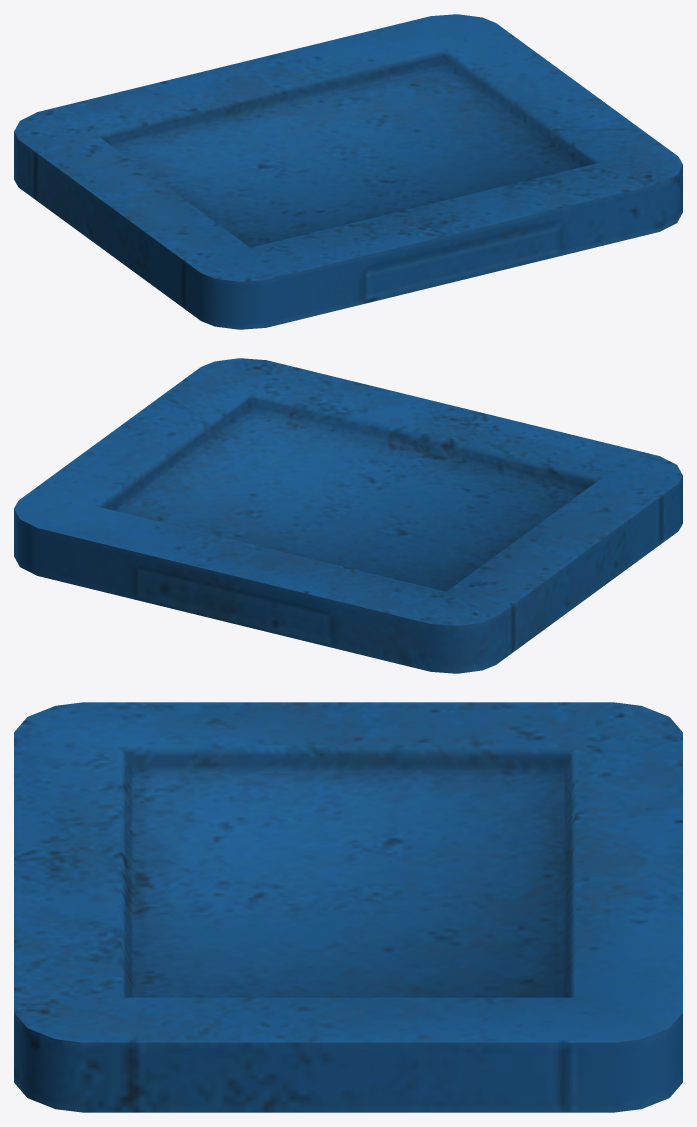
File: box_clothing_lid.dae
The picture shows the model from 3 angles, top to bottom: view 1: azimuth 30°, elevation 25°; view 2: azimuth 150°, elevation 25°; view 3: azimuth 270°, elevation 25°; orthographic projection. The views are drawn at different scales.
Parts seen in each view (by area): view 1: polymsh; view 2: polymsh; view 3: polymsh.
Boxes of the visible parts, box(x1,y1,x2,y2) form: polymsh: box(14, 14, 682, 329); polymsh: box(14, 358, 682, 673); polymsh: box(14, 702, 682, 1112).
Size of the model in its own units: 0.3535 by 0.0339 by 0.2939.
